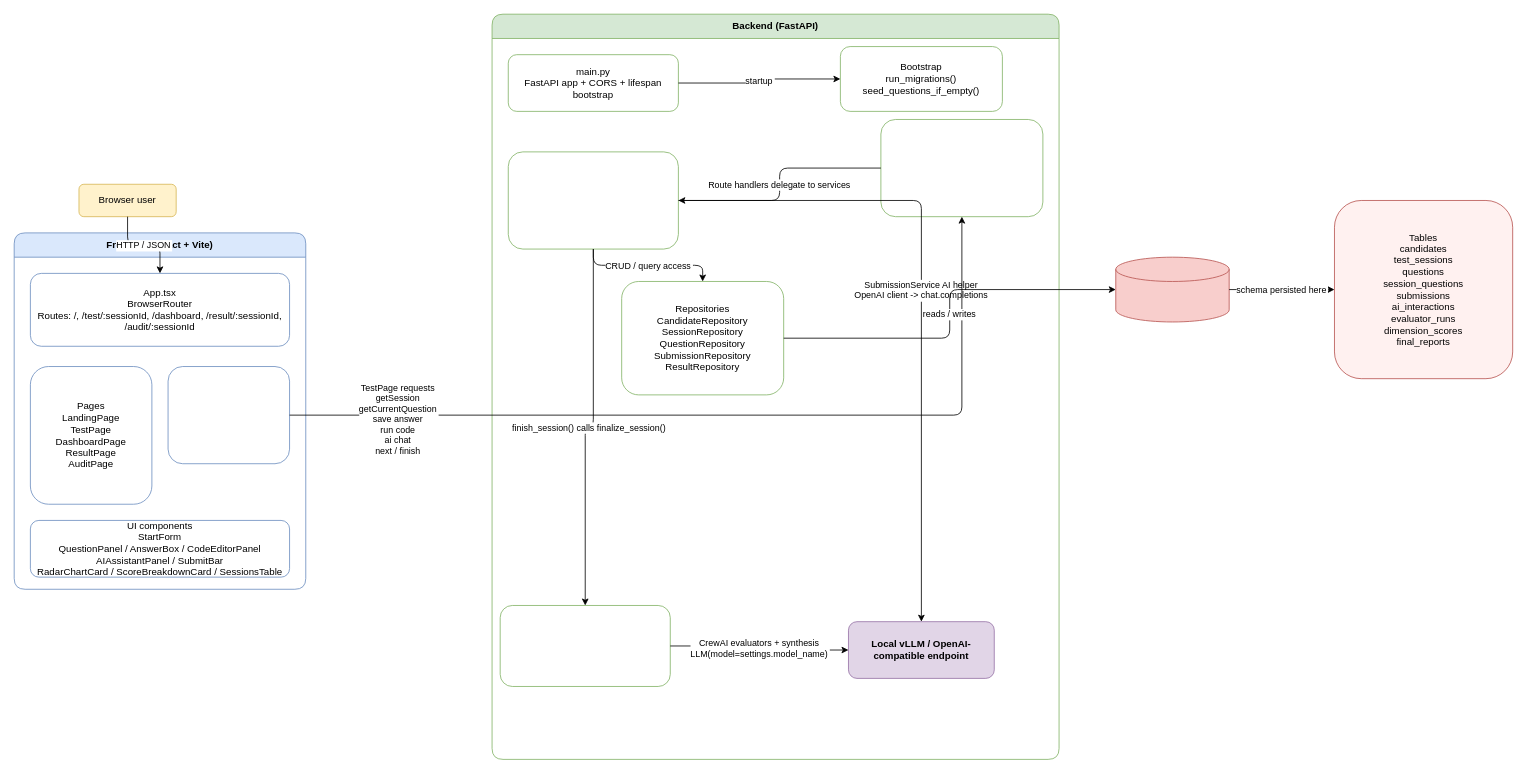
Some shapes in this 1527 by 774 pixel diagram are drawn without their labels. The shapes that lost their labels are listed below. From the top down, each one's centre as x and y in pixels, then its label:
At [961,168]: "API routers candidates sessions submissions ai results dashboard".
At [592,200]: "Domain services SessionService SubmissionService QuestionService ResultService".
At [1172,289]: "Postgres".
At [228,415]: "API clients http.ts (Axios baseURL) sessionsApi.ts dashboardApi.ts".
At [584,645]: "Crew / scoring pipeline crew/flow.py crew/crew.py domain/scoring/*".
